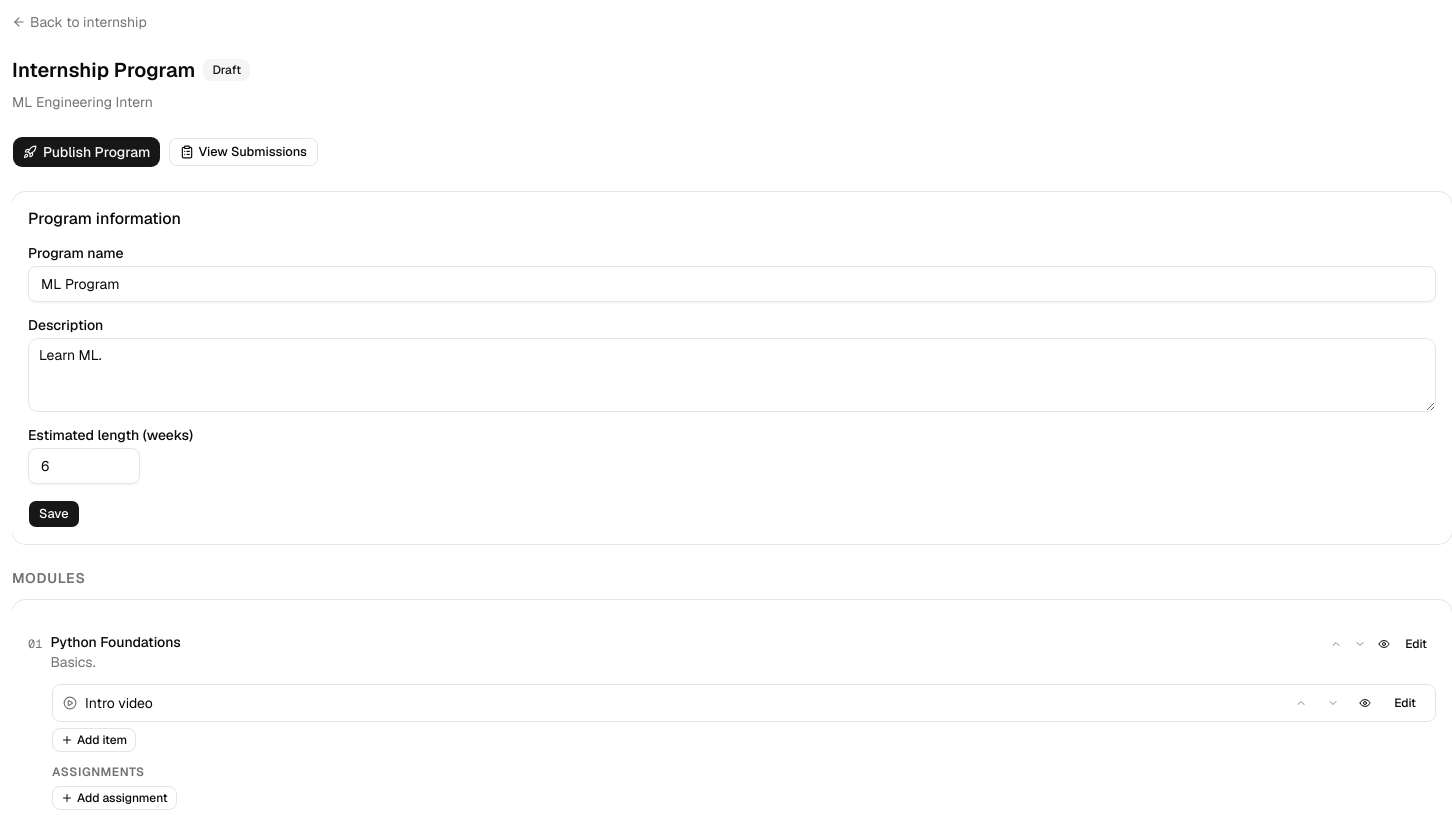
Scenario: InternshipProgramView › surfaces a mutation error at the top of the page
Expected: the text "Program information" is shown, [28,208,181,229]
Replace the text in the field labelled "Program name" with "Renamed" at (732, 284), box [28,266,1436,302]
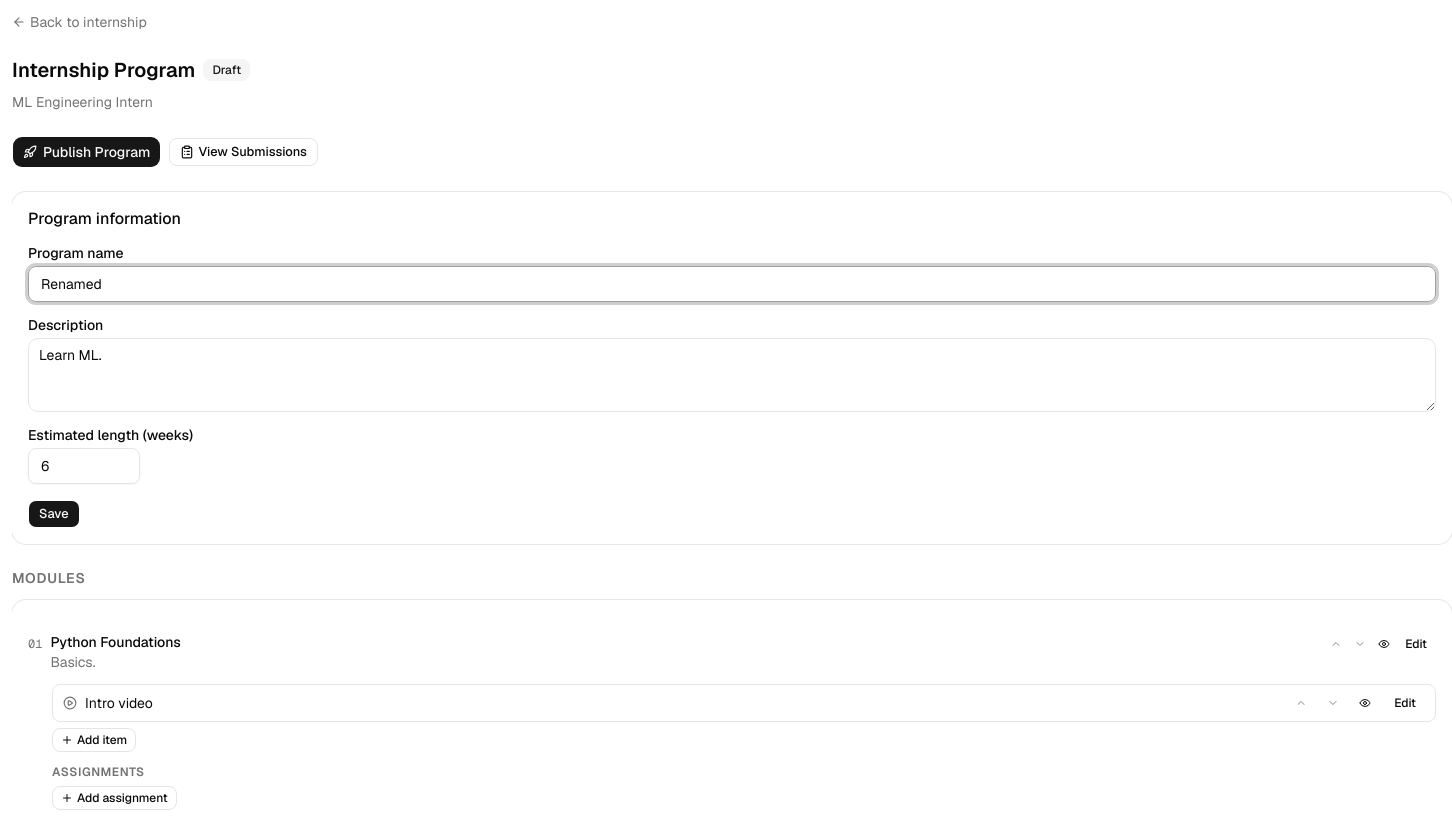
Click the button "Save" at (54, 514), box [28,500,80,528]
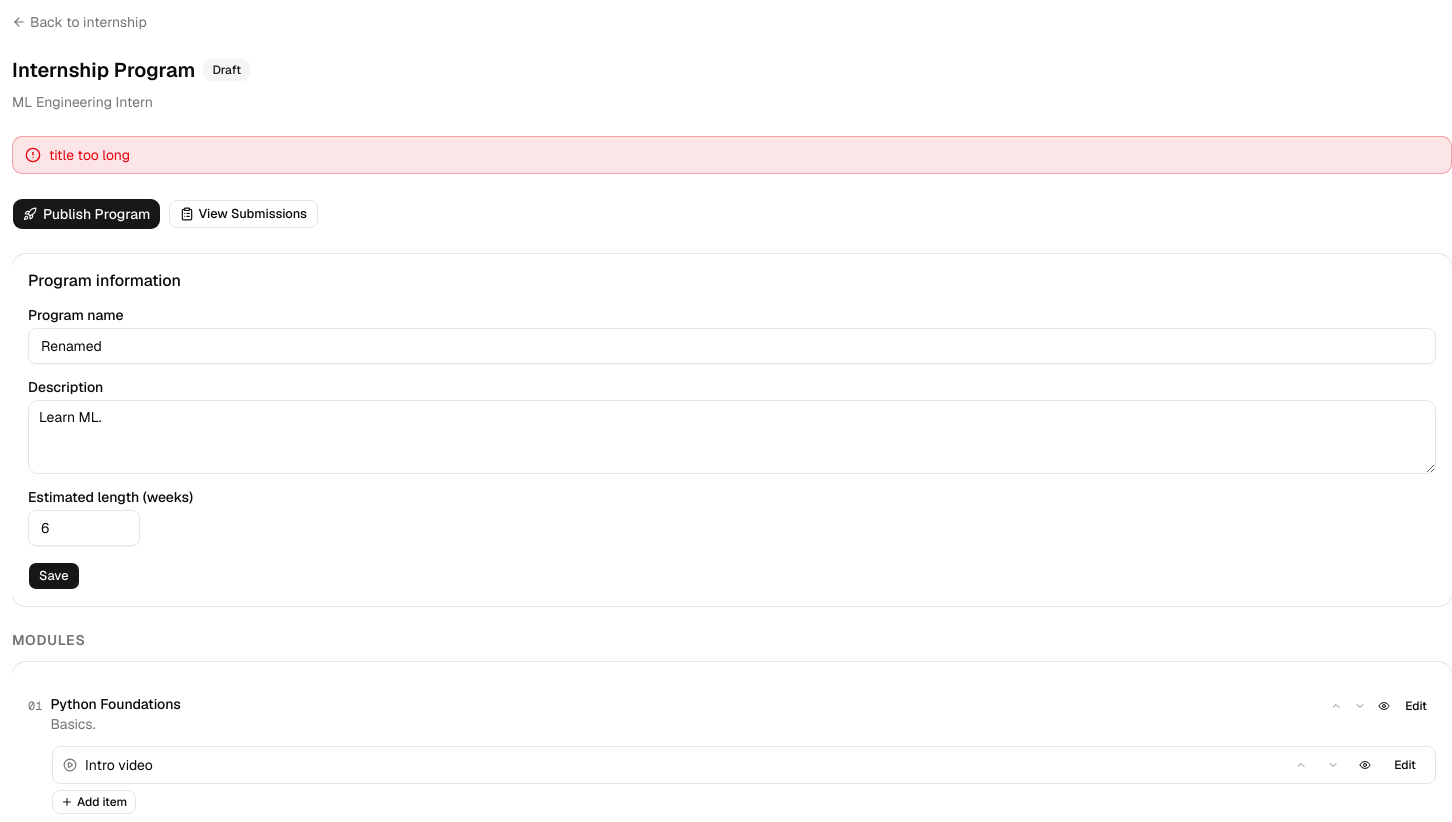
Expected: the text "title too long" is shown, [49,145,130,165]
